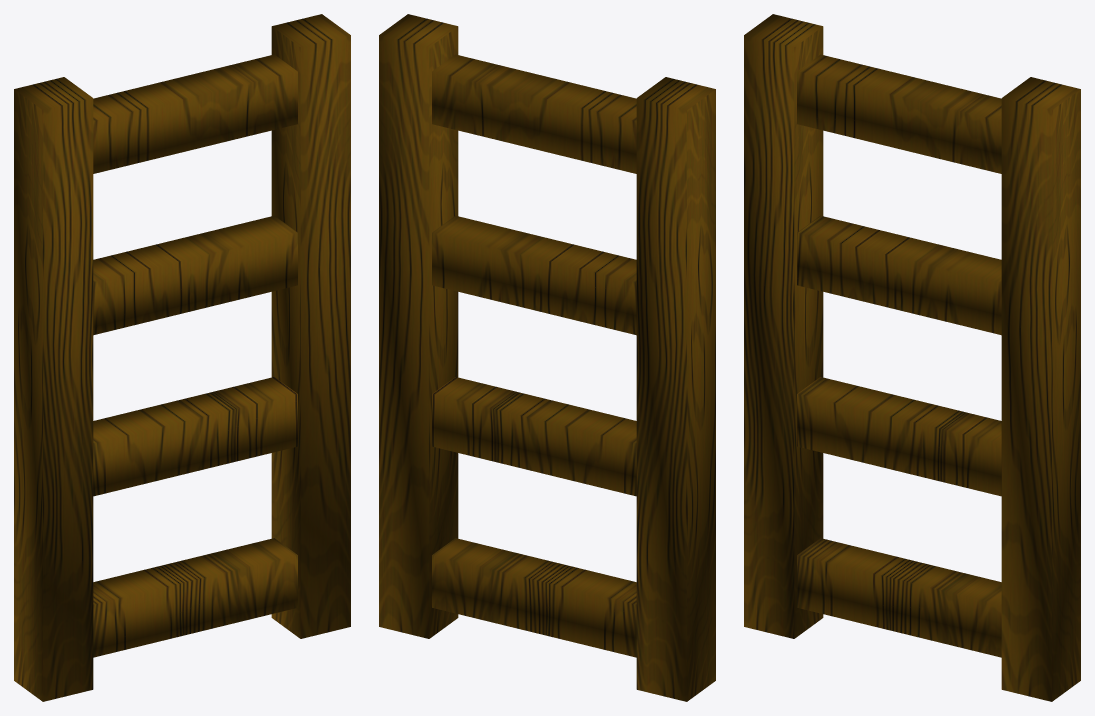
Rendered from ladder.fbx.
The picture shows the model from 3 angles, left to right: view 1: azimuth 30°, elevation 25°; view 2: azimuth 150°, elevation 25°; view 3: azimuth 330°, elevation 25°; orthographic projection.
Visible parts, largest first — view 1: obj1, obj3; view 2: obj1, obj3; view 3: obj1, obj3.
Part boxes in pixels (x1,y1,x2,y2): obj1: [14, 14, 350, 701]; obj3: [93, 54, 297, 657]; obj1: [379, 14, 715, 701]; obj3: [432, 54, 636, 657]; obj1: [744, 14, 1080, 701]; obj3: [797, 54, 1001, 657].
Size of the model in its own units: 140 by 257 by 22.85.
Materials: 1 (1 with a texture image).
